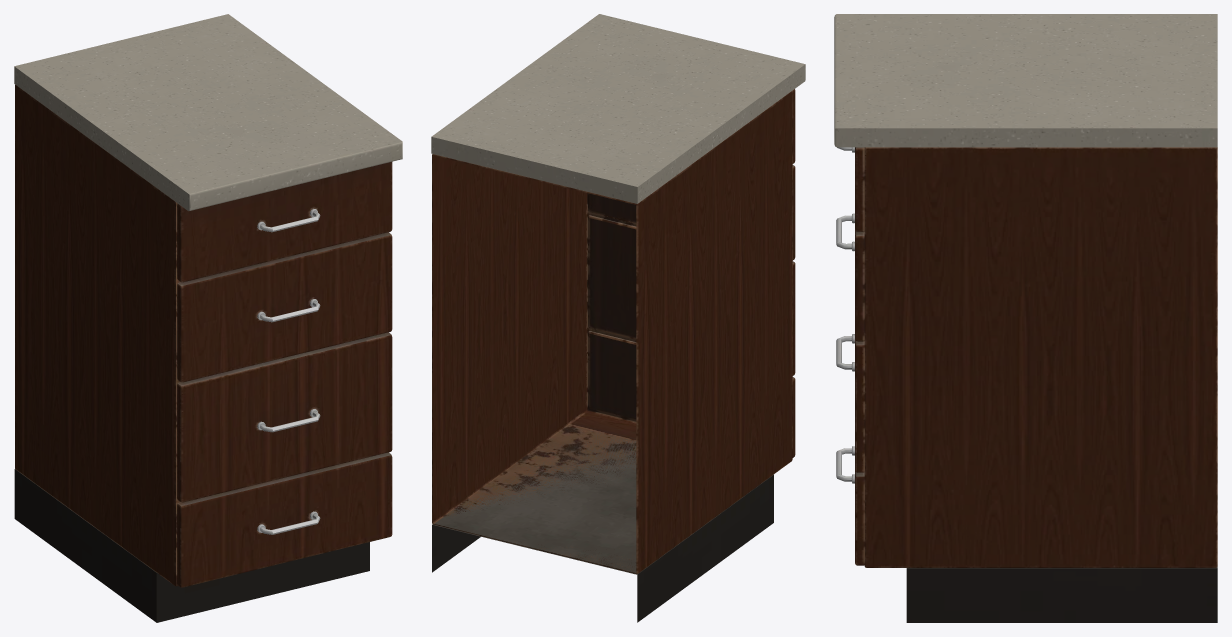
Rendered from kit_base_45dr.glb.
3 views of the same model, side by side, from view 1: azimuth 30°, elevation 25°; view 2: azimuth 150°, elevation 25°; view 3: azimuth 270°, elevation 25° (orthographic). The views are drawn at different scales.
Parts seen in each view (by area): view 1: kit_base_45dr; view 2: kit_base_45dr; view 3: kit_base_45dr.
Boxes of the visible parts, left/top/right/bottom form: kit_base_45dr: left=14, top=14, right=402, bottom=622; kit_base_45dr: left=431, top=14, right=805, bottom=622; kit_base_45dr: left=834, top=14, right=1217, bottom=622.
Size of the model in its own units: 0.448 by 0.905 by 0.635.
Materials: 1 (1 with a texture image).
